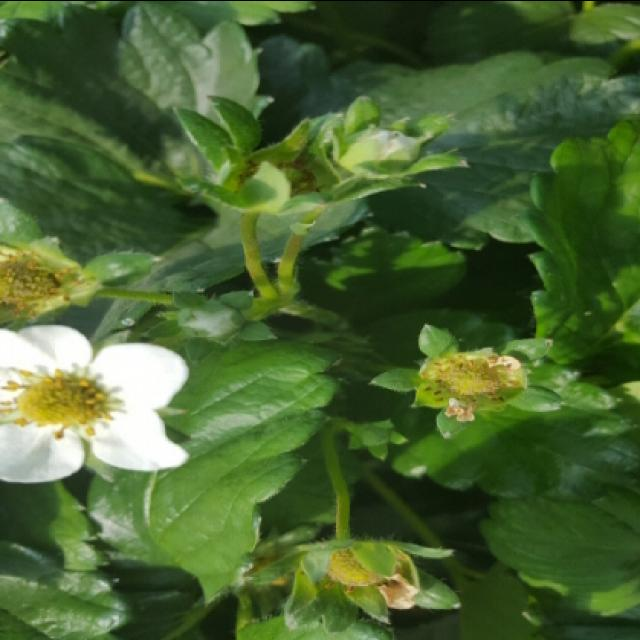Blossom Blight: (422, 345, 530, 425)
